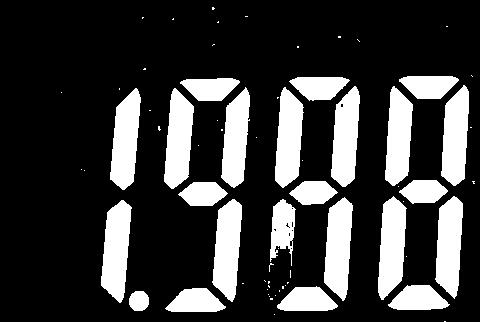1: (97, 85, 143, 306)
8: (267, 73, 366, 312), (377, 72, 470, 309)
9: (160, 73, 253, 315)
dot: (130, 288, 151, 314)
